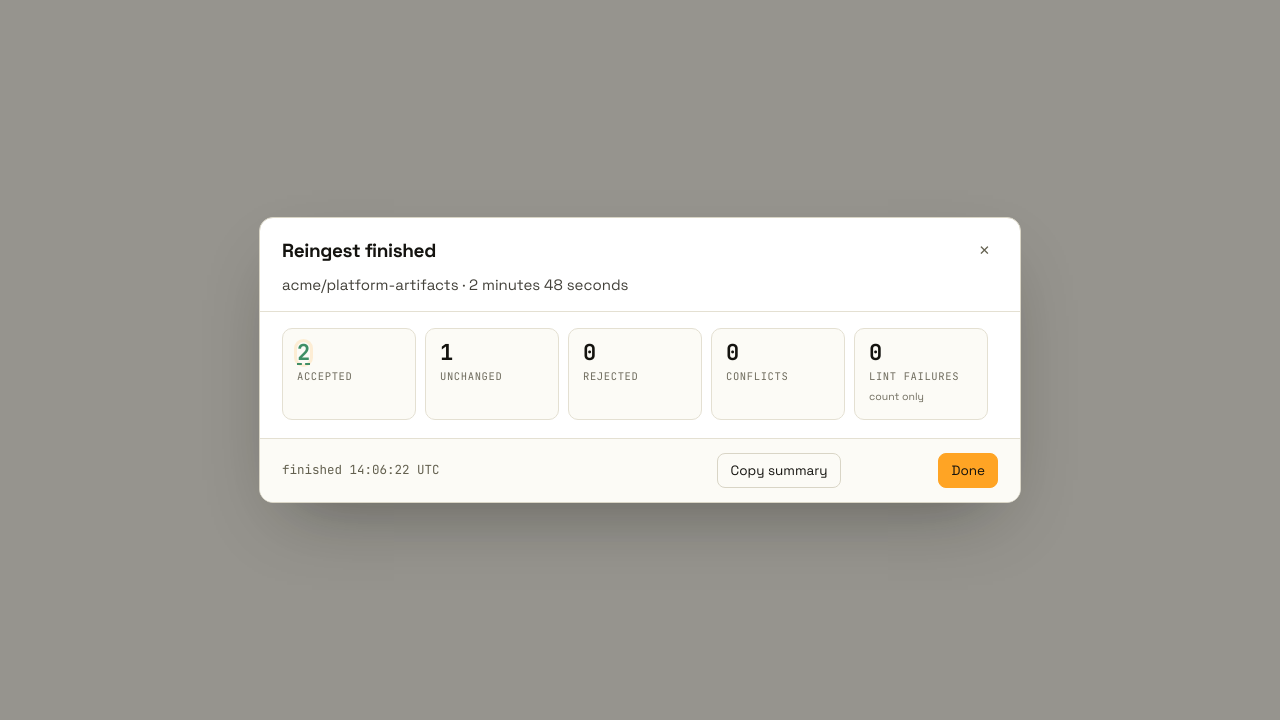
the finished reingest report › opens the accepted count onto the artifacts the snapshot newly stored
This screenshot has width=1280, height=720.
Click the button named "accepted, 2, open the list" at (304, 353), box [297,342,310,364]
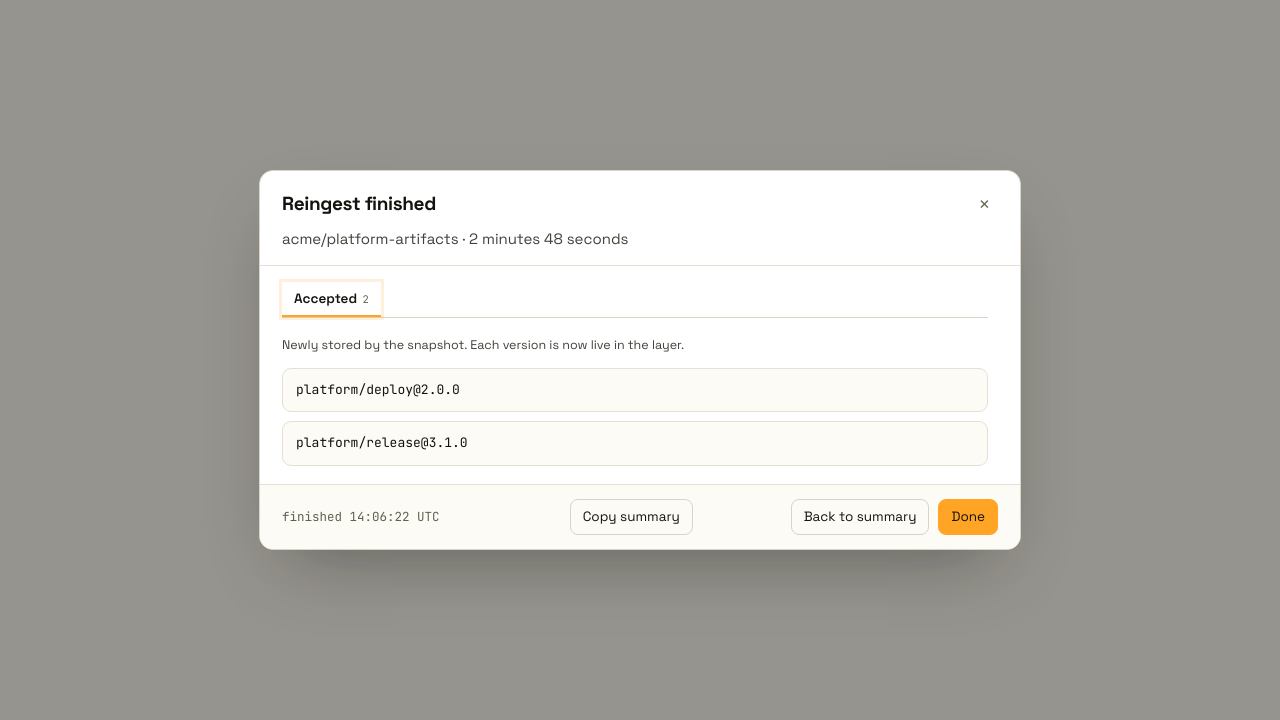
Check: the list items read "platform/deploy@2.0.0", "platform/release@3.1.0", in this order, box [282,368,988,412]; [282,421,988,466]
